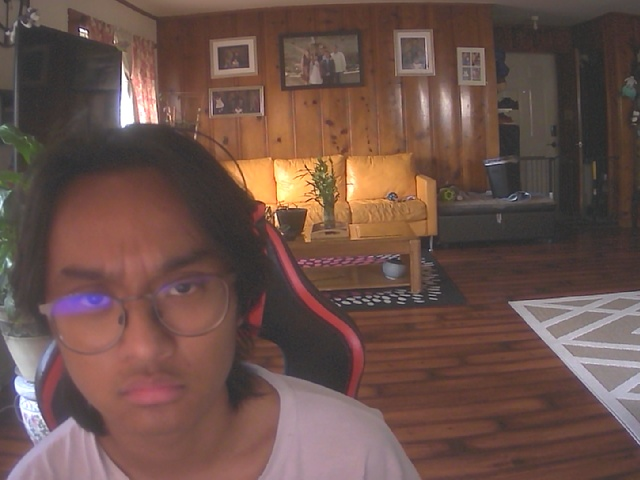anger: (32, 144, 255, 443)
